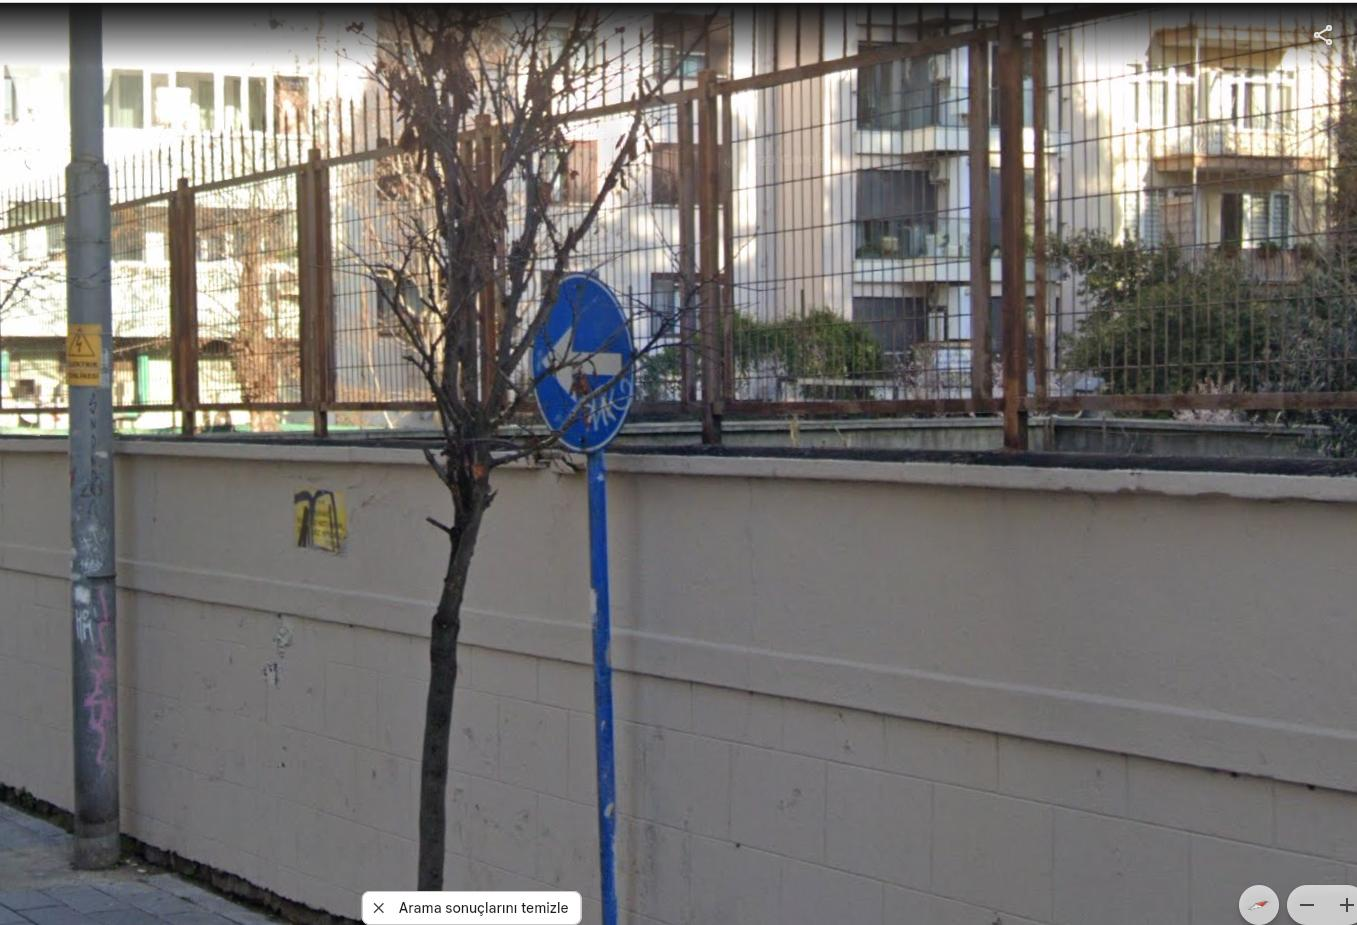turnleft: (532, 279, 635, 441)
